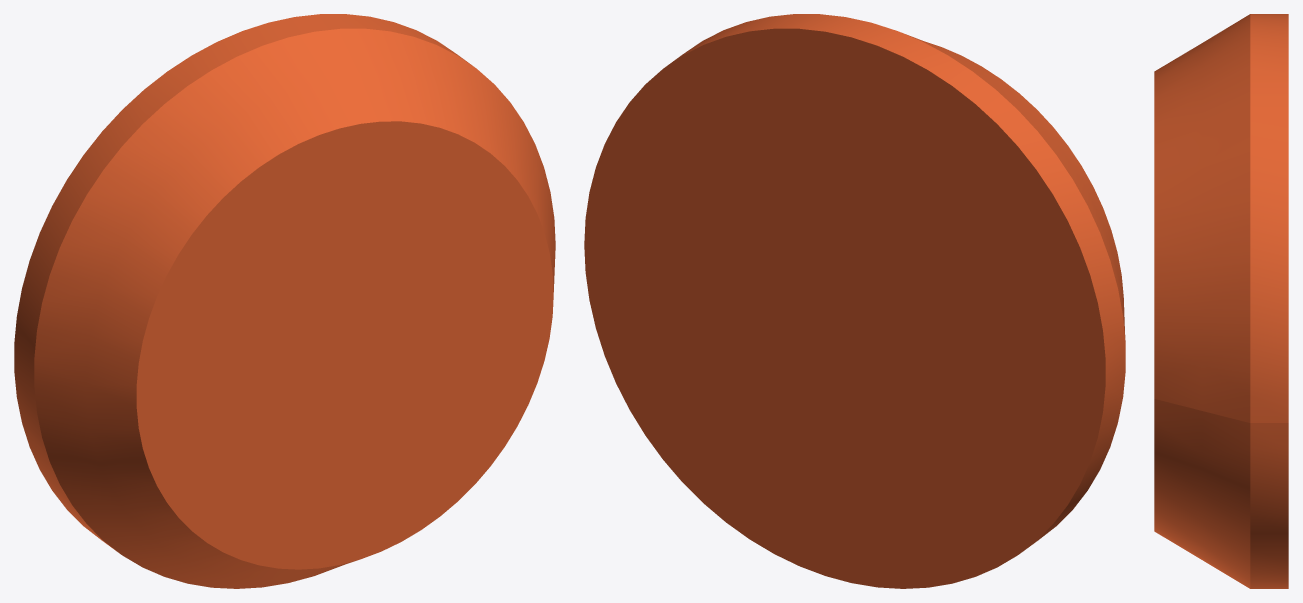
The model's file is .pot_button_plug.step.glb.
The picture shows the model from 3 angles, left to right: view 1: azimuth 30°, elevation 25°; view 2: azimuth 150°, elevation 25°; view 3: azimuth 270°, elevation 25°; orthographic projection. The views are drawn at different scales.
Parts seen in each view (by area): view 1: o1.1; view 2: o1.1; view 3: o1.1.
Part boxes in pixels (<box>): o1.1: <box>14,14,555,588</box>; o1.1: <box>584,14,1125,588</box>; o1.1: <box>1154,14,1288,588</box>.
Bounding box in the file's own units: 0.006 × 0.006 × 0.0014.
